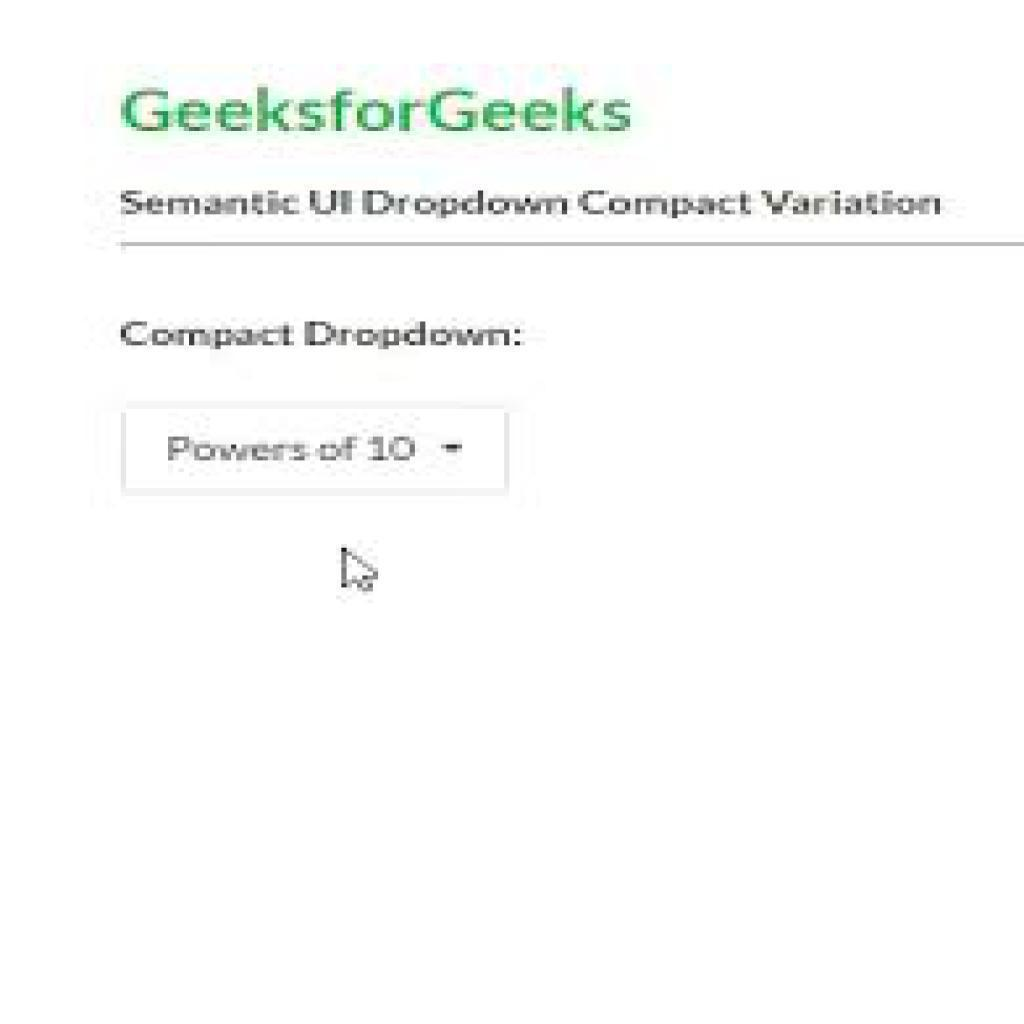dropdown: (120, 403, 506, 490)
label: (114, 305, 551, 359)
